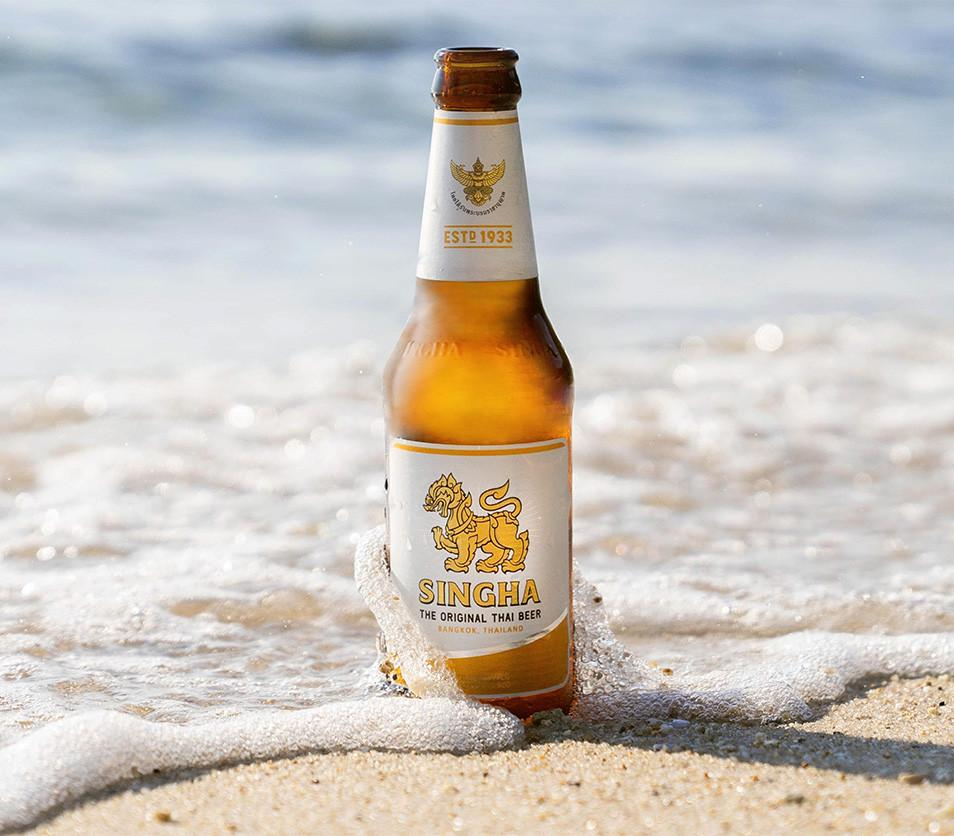glass: (377, 47, 582, 712)
